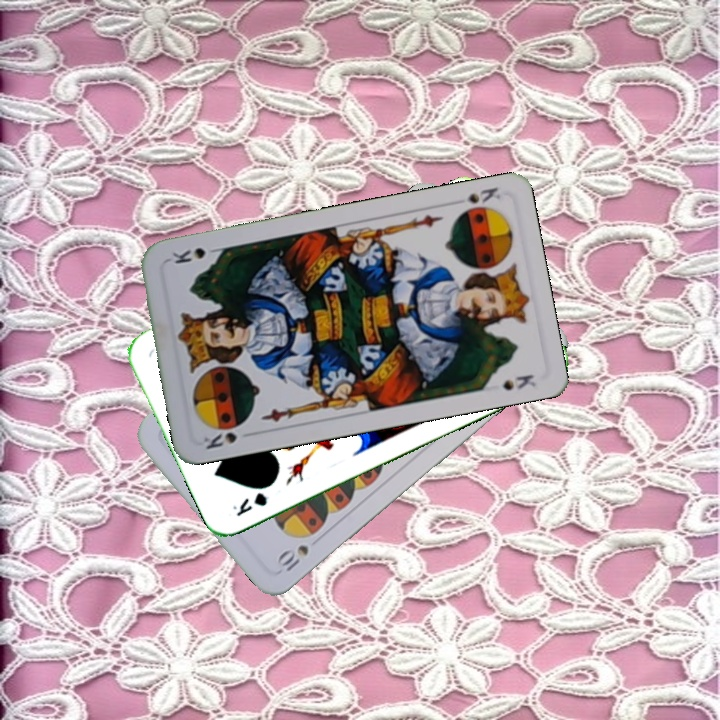GK: (229, 488, 270, 519)
S10: (275, 540, 312, 576)
SK: (448, 182, 503, 217), (199, 428, 240, 452)
